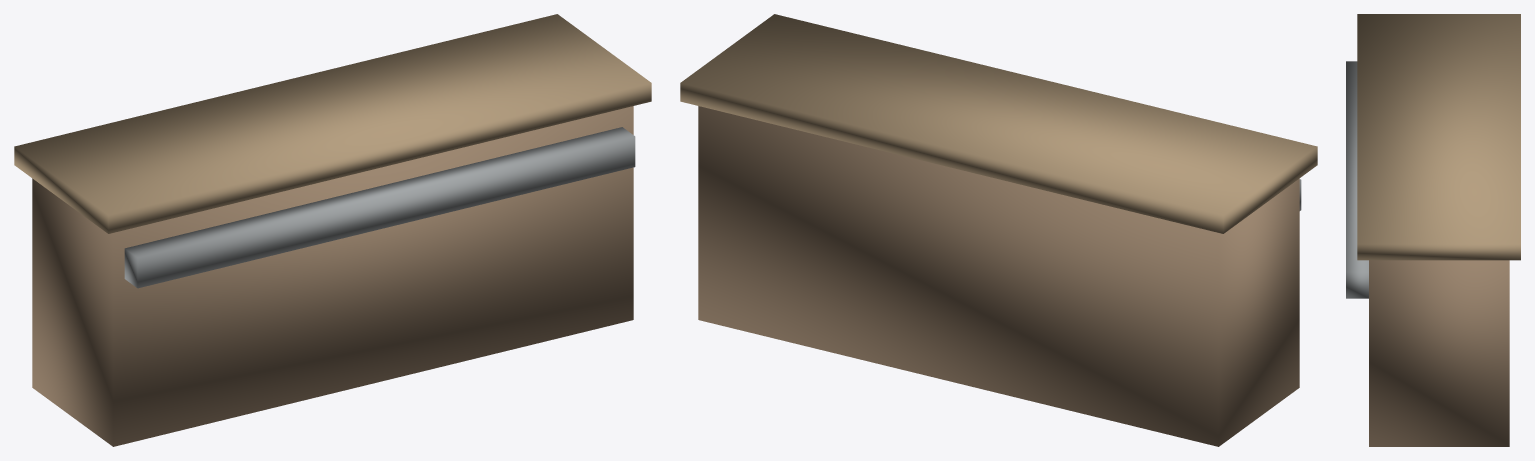
The model's file is bar_counter__reinforced.glb.
3 renders of one model, left to right at view 1: azimuth 30°, elevation 25°; view 2: azimuth 150°, elevation 25°; view 3: azimuth 270°, elevation 25°, orthographic. The views are drawn at different scales.
Visible parts, largest first — view 1: world; view 2: world; view 3: world.
Boxes of the visible parts, box(x1,y1,x2,y2) form: world: box(14, 14, 651, 446); world: box(680, 14, 1317, 446); world: box(1346, 14, 1520, 446).
Size of the model in its own units: 2.47 by 1.04 by 0.7931.
